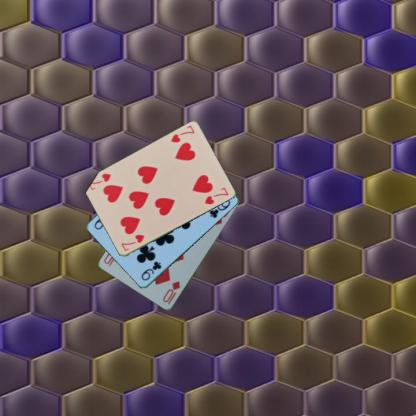10d: (160, 279, 181, 306)
7h: (168, 123, 196, 145), (118, 232, 146, 252)
9c: (139, 259, 162, 282)
